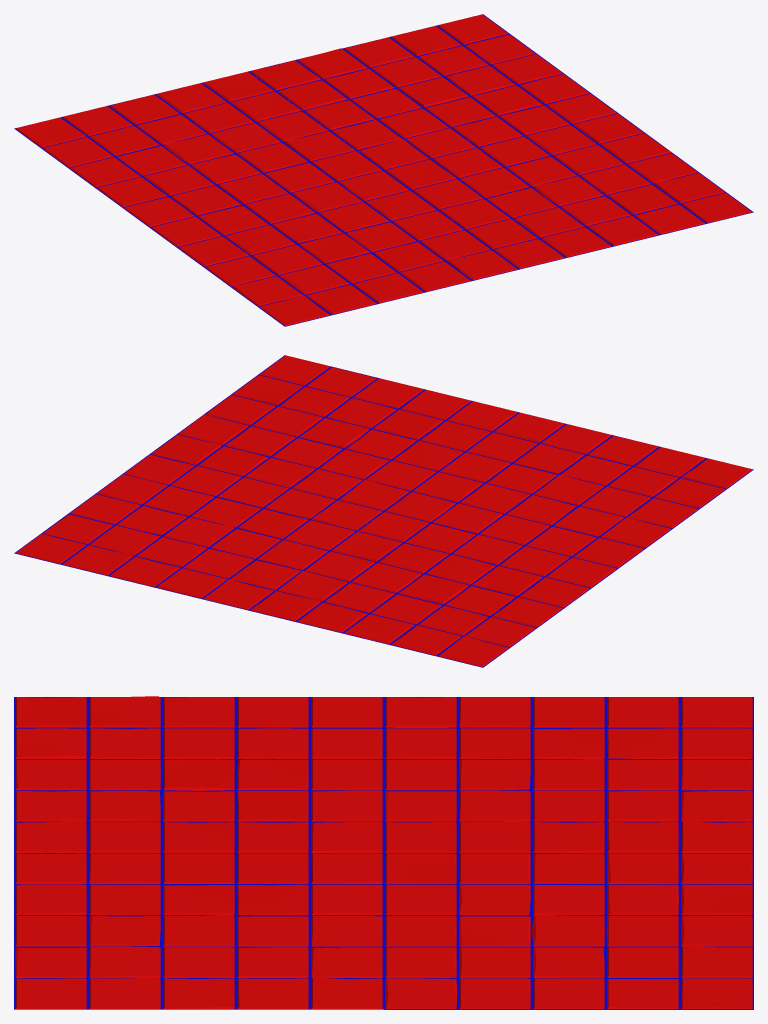
Rendered from Bg_chaplin01_mdl_ground01.fbx.
The picture shows the model from 3 angles, top to bottom: view 1: azimuth 30°, elevation 25°; view 2: azimuth 150°, elevation 25°; view 3: azimuth 270°, elevation 25°; orthographic projection. The views are drawn at different scales.
Visible parts, largest first — view 1: bg_chaplin01_mdl_ground01; view 2: bg_chaplin01_mdl_ground01; view 3: bg_chaplin01_mdl_ground01.
Part boxes in pixels (x1,y1,x2,y2): bg_chaplin01_mdl_ground01: [14, 14, 753, 326]; bg_chaplin01_mdl_ground01: [14, 355, 753, 667]; bg_chaplin01_mdl_ground01: [14, 696, 753, 1009].
Size of the model in its own units: 1000 by 3.42 by 1000.
